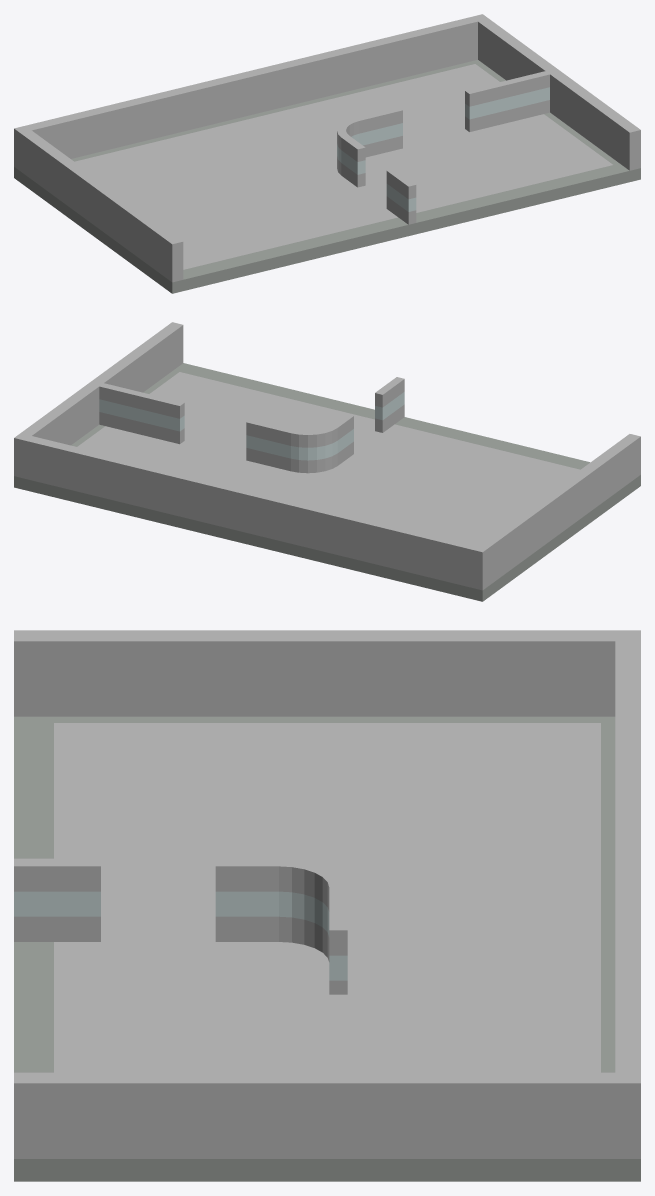
3 views of the same model, one above another, from view 1: azimuth 30°, elevation 25°; view 2: azimuth 150°, elevation 25°; view 3: azimuth 270°, elevation 25° (orthographic). The views are drawn at different scales.
Parts seen in each view (by area): view 1: Plane.009; view 2: Plane.009; view 3: Plane.009.
Part boxes in pixels (x1,y1,x2,y2): Plane.009: (14, 14, 640, 293); Plane.009: (14, 322, 640, 601); Plane.009: (14, 630, 640, 1181).
Size of the model in its own units: 2954 by 298 by 1728.
1 material, 1 textured.
